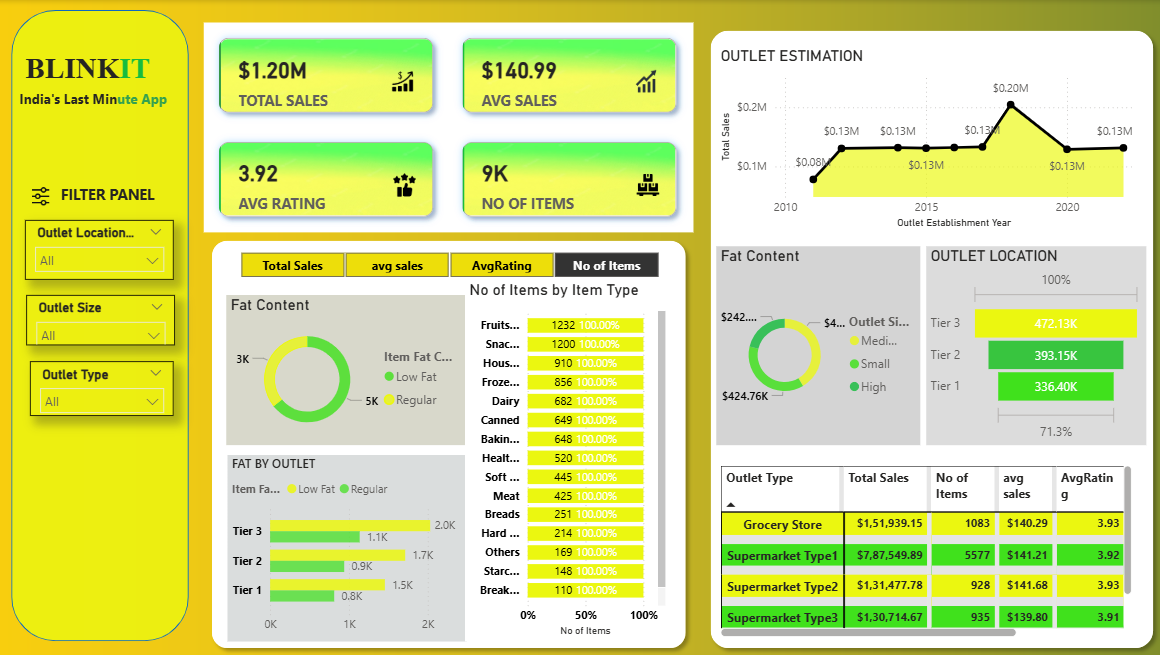

What the dashboard file says about the page in this screenshot:
{"tool":"powerbi","page":{"name":"Page 1","canvas":[1280,720],"ordinal":0},"visuals":[{"type":"shape","box":[17.8,11,194.9,693],"z":0},{"type":"textbox","box":[17.8,41.2,178.4,71.4],"z":1000},{"type":"textbox","box":[13.7,93.3,186.6,38.4],"z":2000},{"type":"cardVisual","fields":{"Data":["BlinkIT Grocery Data.Total Sales","BlinkIT Grocery Data.avg sales","BlinkIT Grocery Data.AvgRating","BlinkIT Grocery Data.No of Items"]},"box":[229.2,24.7,537.9,230.5],"z":3000},{"type":"shape","box":[229.2,255.2,537.9,465.2],"z":4000},{"type":"donutChart","title":" Fat Content","fields":{"Y":["BlinkIT Grocery Data.No of Items"],"Category":["BlinkIT Grocery Data.Item Fat Content"]},"box":[253.9,323.8,262.1,164.7],"z":5000},{"type":"slicer","fields":{"Values":["METRICS.METRICS"]},"box":[244.3,270.3,507.7,37],"z":6000},{"type":"clusteredBarChart","title":"FAT BY OUTLET","fields":{"Y":["BlinkIT Grocery Data.No of Items"],"Category":["BlinkIT Grocery Data.Outlet Location Type"],"Series":["BlinkIT Grocery Data.Item Fat Content"]},"box":[255.2,499.5,262.1,204.5],"z":7000},{"type":"hundredPercentStackedBarChart","fields":{"Y":["BlinkIT Grocery Data.No of Items"],"Category":["BlinkIT Grocery Data.Item Type"]},"box":[516,307.4,225,396.6],"z":8000},{"type":"shape","box":[776.7,24.7,503.6,695.7],"z":9000},{"type":"lineChart","title":"OUTLET ESTIMATION","fields":{"Category":["BlinkIT Grocery Data.Outlet Establishment Year"],"Y":["BlinkIT Grocery Data.Total Sales"]},"box":[791.8,50.8,465.2,204.5],"z":10000},{"type":"donutChart","title":" Fat Content","fields":{"Y":["BlinkIT Grocery Data.Total Sales"],"Category":["BlinkIT Grocery Data.Outlet Size"]},"box":[791.8,270.3,223.7,218.2],"z":11000},{"type":"funnel","title":"OUTLET LOCATION","fields":{"Y":["Sum(BlinkIT Grocery Data.Sales)"],"Category":["BlinkIT Grocery Data.Outlet Location Type"]},"box":[1022.3,270.3,241.5,218.2],"z":12000},{"type":"pivotTable","fields":{"Rows":["BlinkIT Grocery Data.Outlet Type"],"Values":["BlinkIT Grocery Data.Total Sales","BlinkIT Grocery Data.No of Items","BlinkIT Grocery Data.avg sales","BlinkIT Grocery Data.AvgRating","Sum(BlinkIT Grocery Data.Item Visibility)"]},"box":[791.8,506.3,461.1,197.6],"z":13000},{"type":"slicer","fields":{"Values":["BlinkIT Grocery Data.Outlet Size"]},"box":[34.3,323.8,163.3,54.9],"z":14000},{"type":"slicer","fields":{"Values":["BlinkIT Grocery Data.Outlet Type"]},"box":[38.4,396.6,157.8,60.4],"z":15000},{"type":"slicer","fields":{"Values":["BlinkIT Grocery Data.Outlet Location Type"]},"box":[32.9,241.5,163.3,65.9],"z":16000},{"type":"textbox","box":[67.2,197.6,129,39.8],"z":17000},{"type":"image","box":[32.9,193.5,34.3,43.9],"z":18000}]}

Visuals, with their boxes in screenshot pixels (x1, y1, x2, y2), scaled from the page's 1280x720 canvas onto the 1160x655 screenshot:
shape: <box>16,10,193,640</box>
textbox: <box>16,37,178,102</box>
textbox: <box>12,85,182,120</box>
cardVisual - BlinkIT Grocery Data.Total Sales x BlinkIT Grocery Data.avg sales: <box>208,22,695,232</box>
shape: <box>208,232,695,654</box>
" Fat Content" donutChart: <box>230,295,468,444</box>
slicer - METRICS.METRICS: <box>221,246,682,280</box>
"FAT BY OUTLET" clusteredBarChart: <box>231,454,469,640</box>
hundredPercentStackedBarChart - BlinkIT Grocery Data.No of Items x BlinkIT Grocery Data.Item Type: <box>468,280,672,640</box>
shape: <box>704,22,1159,654</box>
"OUTLET ESTIMATION" lineChart: <box>718,46,1139,232</box>
" Fat Content" donutChart: <box>718,246,920,444</box>
"OUTLET LOCATION" funnel: <box>926,246,1145,444</box>
pivotTable - BlinkIT Grocery Data.Outlet Type x BlinkIT Grocery Data.Total Sales: <box>718,461,1135,640</box>
slicer - BlinkIT Grocery Data.Outlet Size: <box>31,295,179,345</box>
slicer - BlinkIT Grocery Data.Outlet Type: <box>35,361,178,416</box>
slicer - BlinkIT Grocery Data.Outlet Location Type: <box>30,220,178,280</box>
textbox: <box>61,180,178,216</box>
image: <box>30,176,61,216</box>
